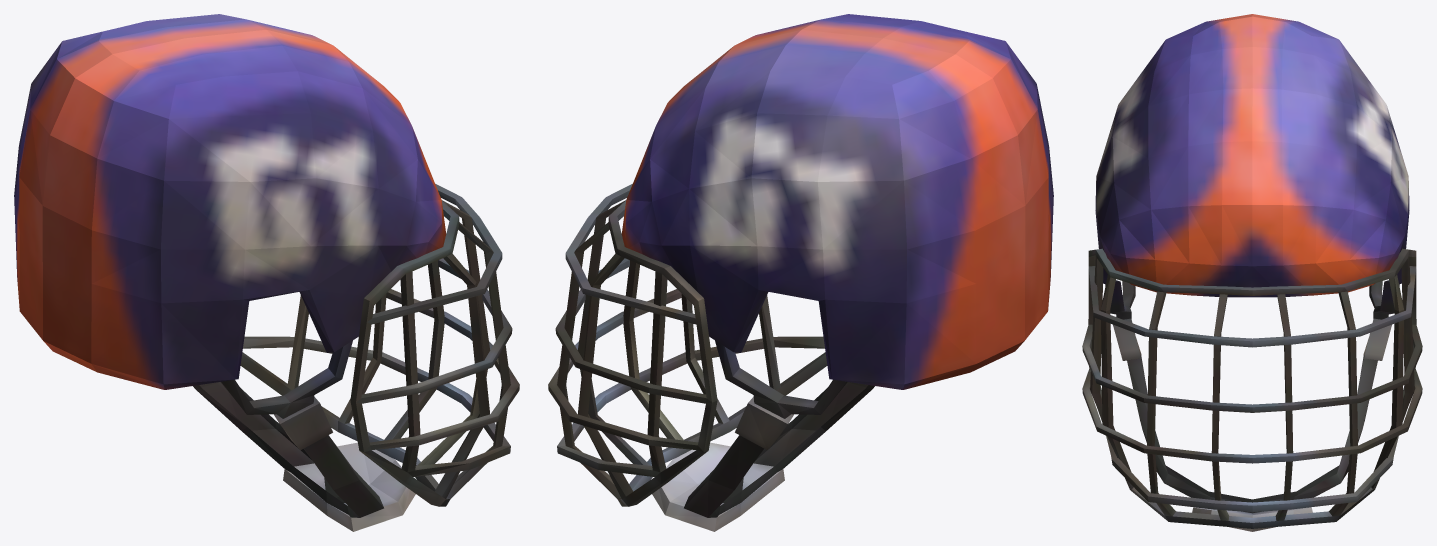
The model's file is HOCKEY HELMET A.fbx.
The picture shows the model from 3 angles, left to right: view 1: azimuth 30°, elevation 25°; view 2: azimuth 150°, elevation 25°; view 3: azimuth 270°, elevation 25°; orthographic projection. The views are drawn at different scales.
Parts seen in each view (by area): view 1: HOCKEY_HELMET_A; view 2: HOCKEY_HELMET_A; view 3: HOCKEY_HELMET_A.
Part boxes in pixels (<box>): HOCKEY_HELMET_A: <box>14,14,519,531</box>; HOCKEY_HELMET_A: <box>548,14,1053,531</box>; HOCKEY_HELMET_A: <box>1082,14,1422,531</box>.
Bounding box in the file's own units: 33.44 × 37.85 × 27.88.
